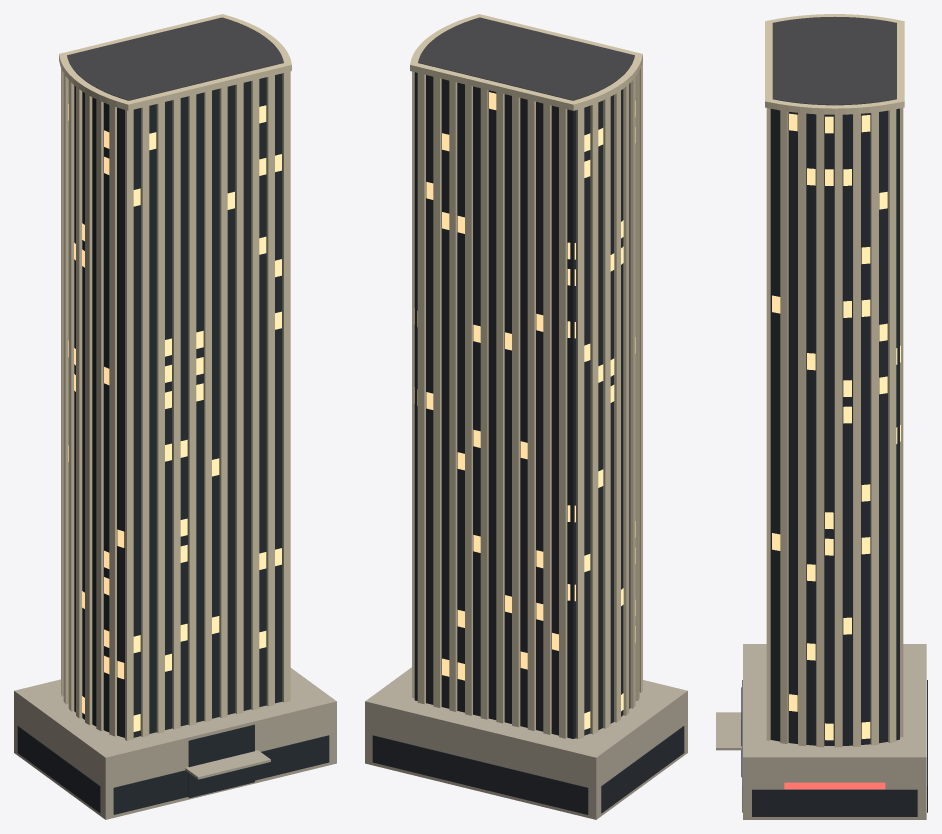
Rendered from t_strip_cream_24.glb.
The picture shows the model from 3 angles, left to right: view 1: azimuth 30°, elevation 25°; view 2: azimuth 150°, elevation 25°; view 3: azimuth 270°, elevation 25°; orthographic projection.
Parts seen in each view (by area): view 1: t_strip_cream_24; view 2: t_strip_cream_24; view 3: t_strip_cream_24.
Part boxes in pixels (x1,y1,x2,y2): t_strip_cream_24: (14,14,336,819); t_strip_cream_24: (365,14,687,819); t_strip_cream_24: (716,14,927,819).
Bounding box in the file's own units: 35.32 × 101 × 27.64.
